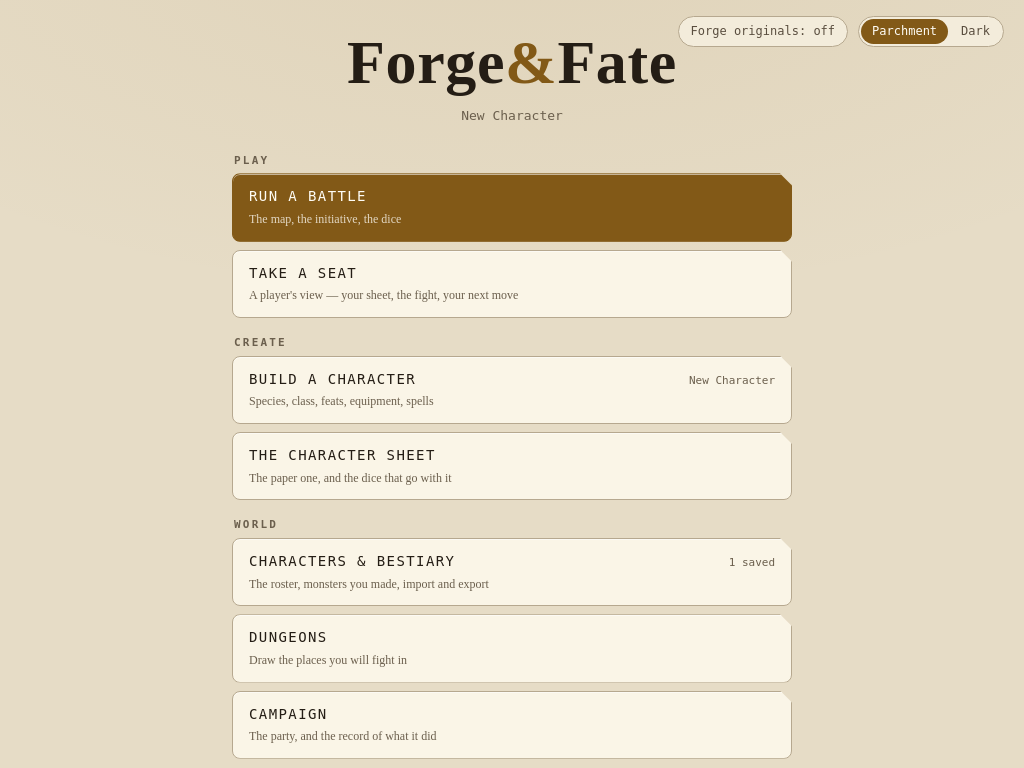
Scenario: undo › is offered but disabled until something is edited
What coordinates should you click on to do the following:
click the button "Build a character"
I would click on:
 (333, 379)
Its box is 232,356 -> 792,424.
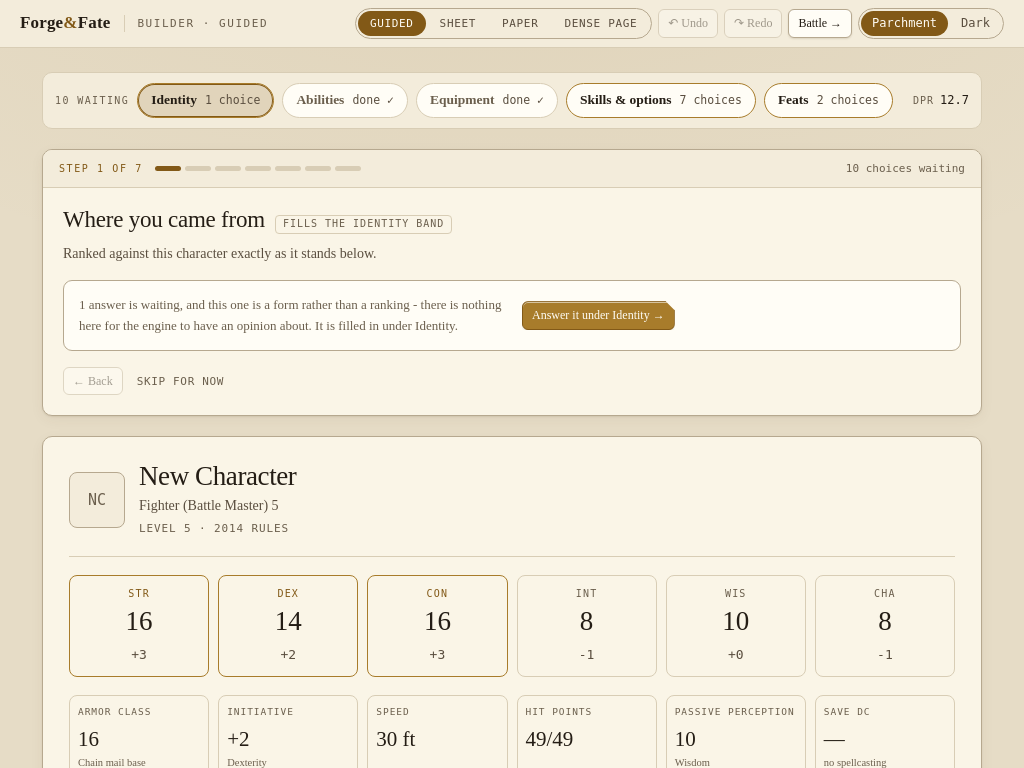
Result: the button "↶ Undo" is disabled at 658,9 -> 718,38
Result: the button "↷ Redo" is disabled at 724,9 -> 782,38
